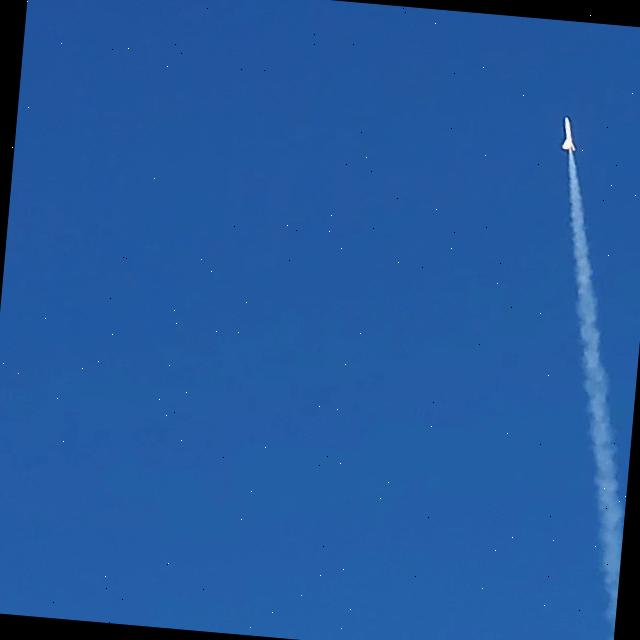rocket: (561, 117, 576, 162)
